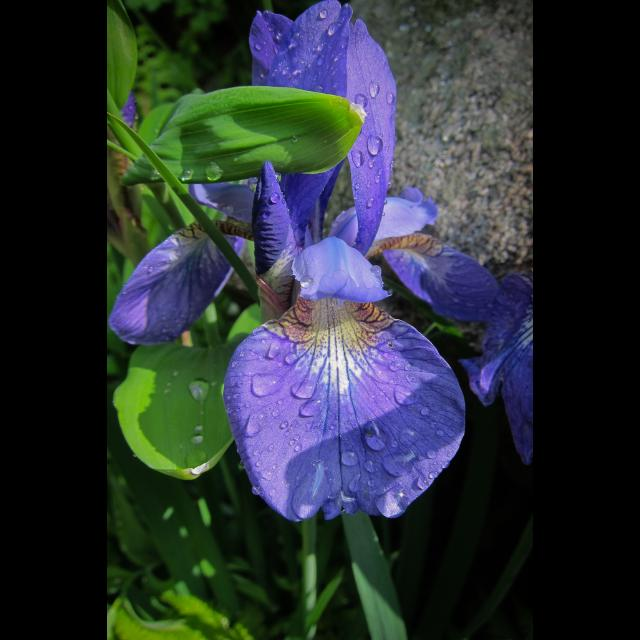Flower: (107, 1, 437, 522), (465, 280, 533, 468)
